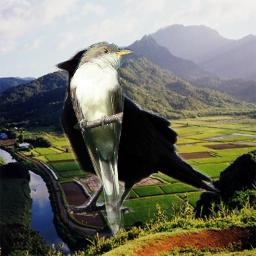Crow: (51, 47, 221, 218)
Cuckoo: (70, 41, 134, 238)
